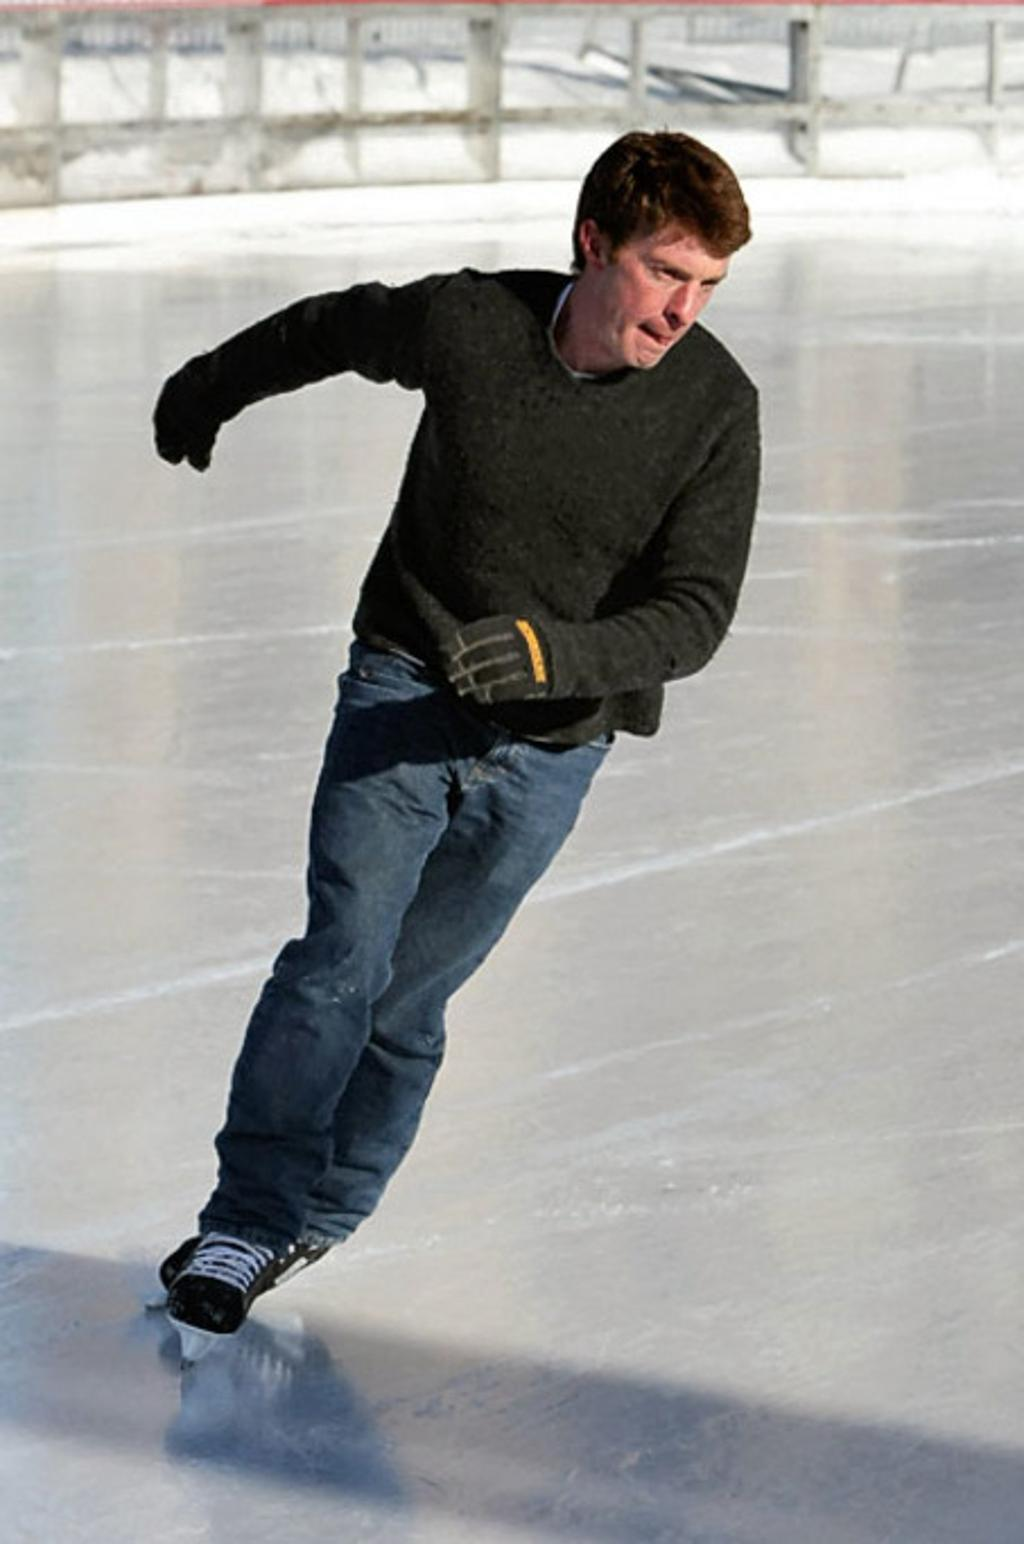face: (599, 220, 722, 368)
